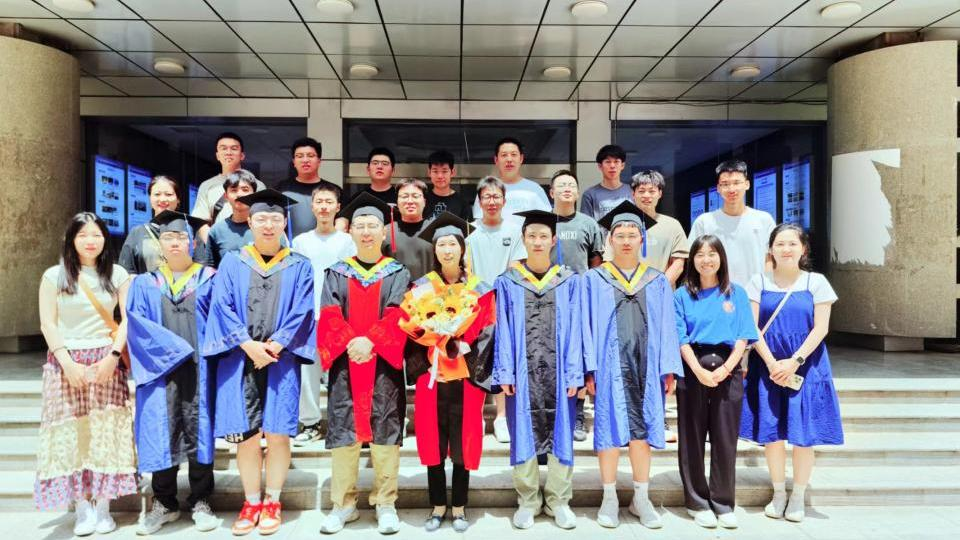persion: (348, 213, 390, 256), (247, 208, 287, 248), (519, 225, 561, 262), (158, 229, 196, 267), (433, 234, 466, 276), (769, 229, 806, 266), (608, 226, 644, 262), (716, 171, 751, 204), (396, 184, 427, 221), (695, 238, 722, 280), (75, 218, 104, 257), (291, 145, 323, 178), (494, 142, 525, 176), (150, 179, 179, 215), (631, 184, 668, 211), (551, 175, 583, 205), (311, 189, 340, 222), (225, 179, 253, 212), (213, 136, 244, 165), (480, 187, 505, 221), (366, 154, 394, 183), (425, 162, 455, 188), (596, 156, 627, 179)
